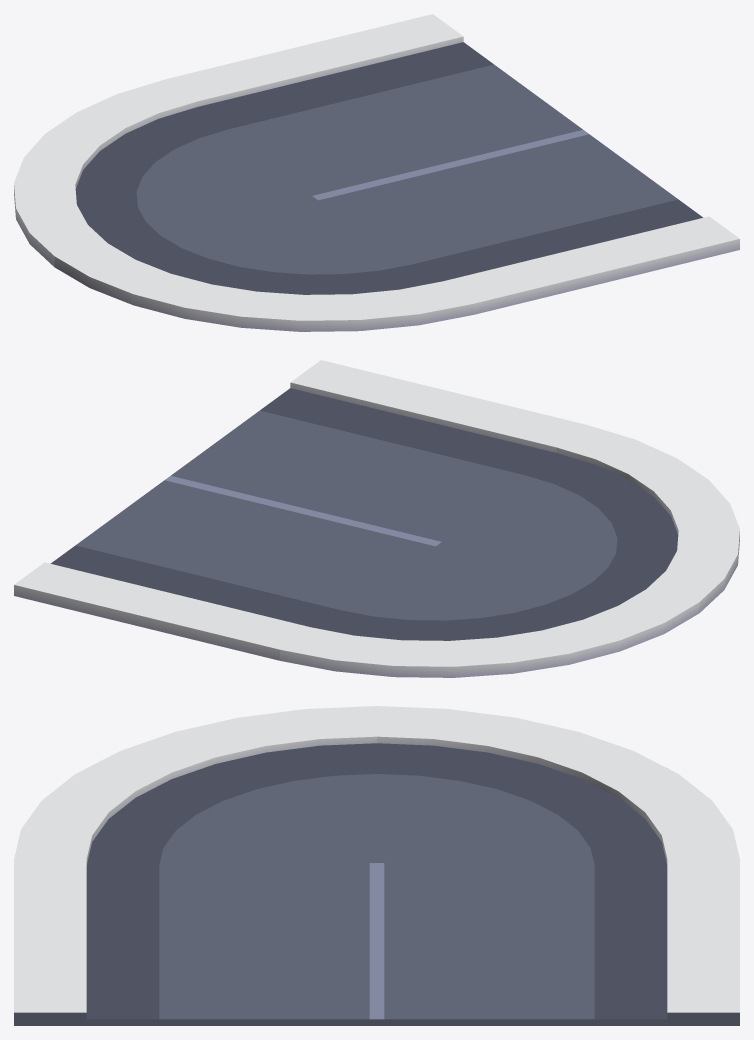
File: road-end-round.glb
3 views of the same model, one above another, from view 1: azimuth 30°, elevation 25°; view 2: azimuth 150°, elevation 25°; view 3: azimuth 270°, elevation 25° (orthographic). The views are drawn at different scales.
Visible parts, largest first — view 1: road-end-round; view 2: road-end-round; view 3: road-end-round.
Part boxes in pixels (bbox=[...]): road-end-round: bbox=[14, 14, 739, 331]; road-end-round: bbox=[14, 360, 739, 677]; road-end-round: bbox=[14, 706, 739, 1025].
Bounding box in the file's own units: 1 × 0.02 × 1.
Materials: 1 (1 with a texture image).
